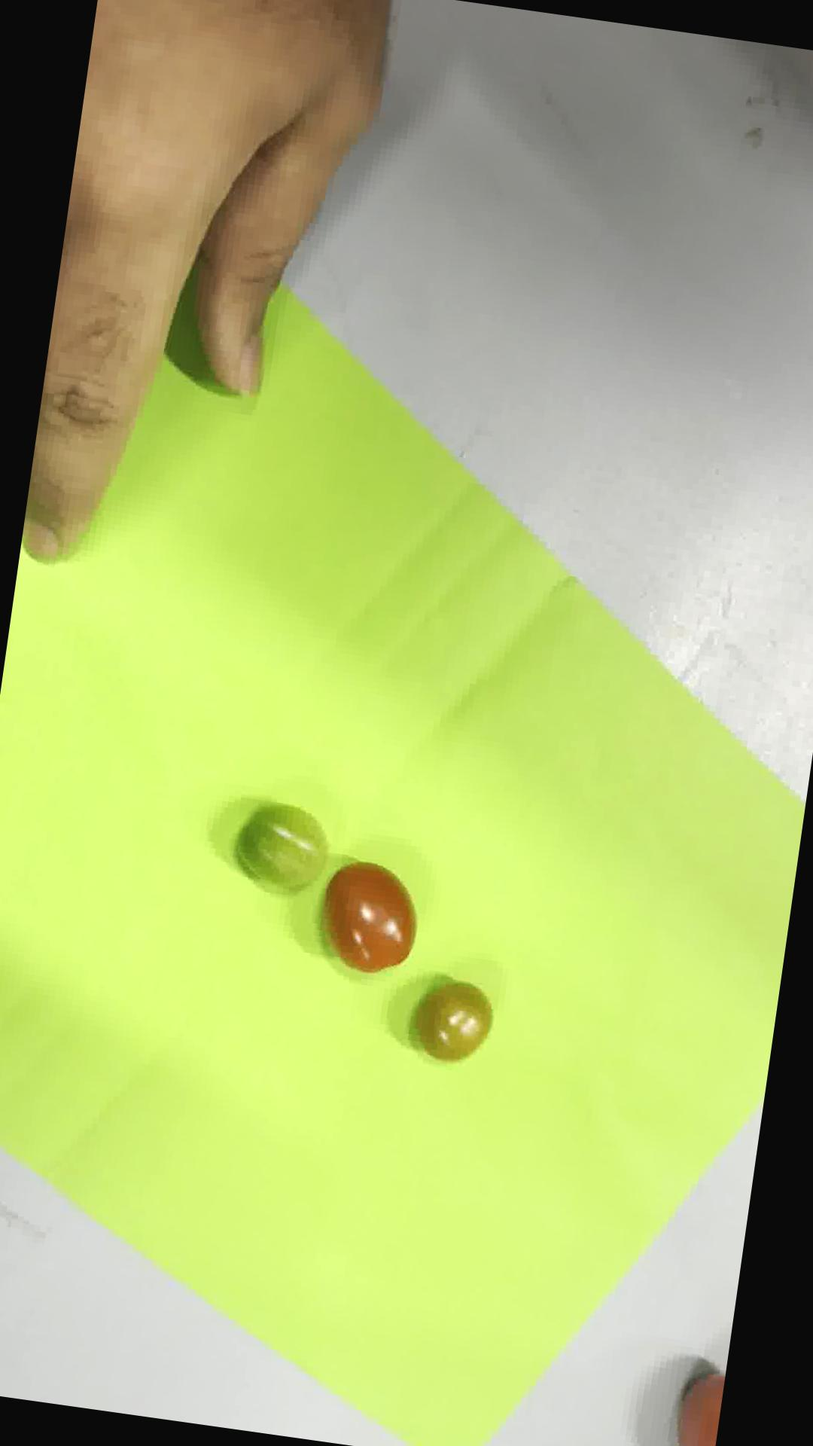green_cherry_tomato: (234, 800, 327, 895)
red_cherry_tomato: (324, 862, 416, 973)
yellow_cherry_tomato: (415, 980, 492, 1061)
